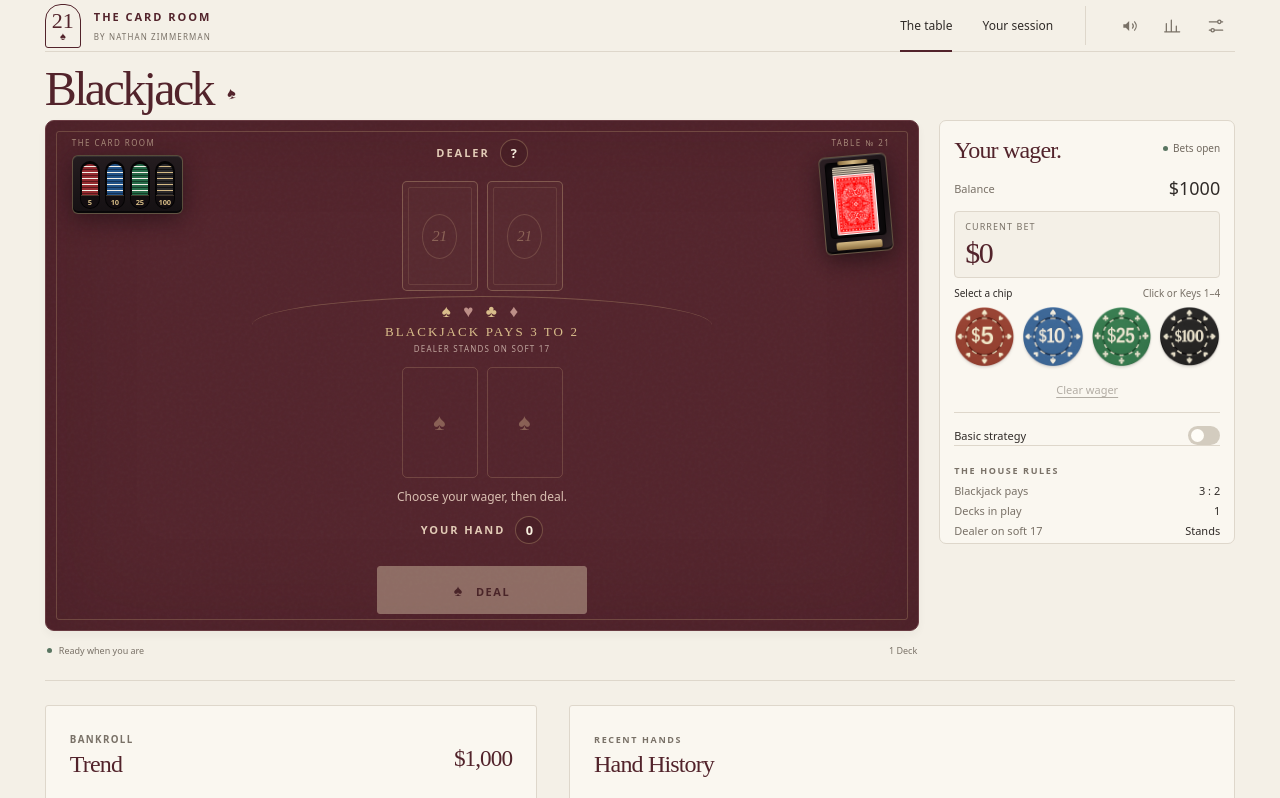
Test case: BlackjackGame › clears the current wager before dealing
The image size is (1280, 798).
Click the button named "Add $25 to wager" at (1121, 336), box [1091,306,1152,367]
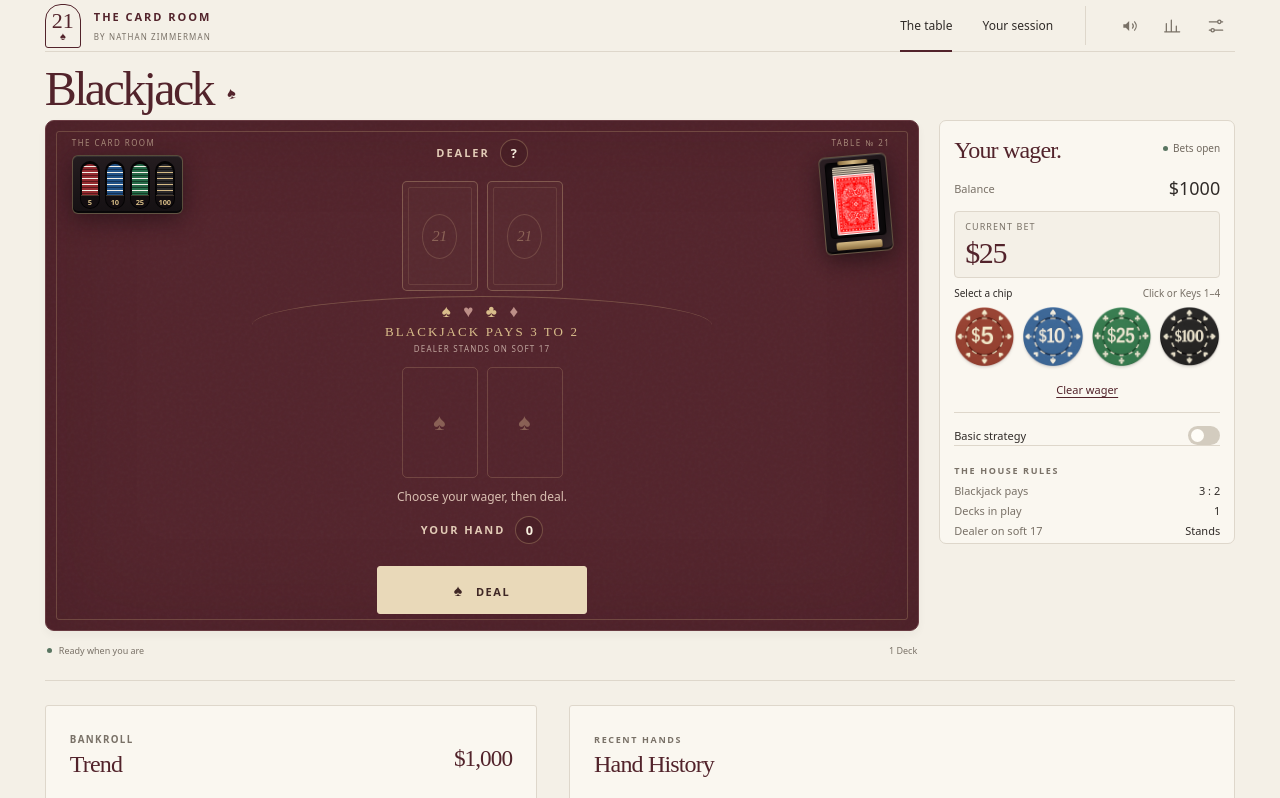
Click the button "Clear wager" at (1087, 390), box [954,374,1220,406]
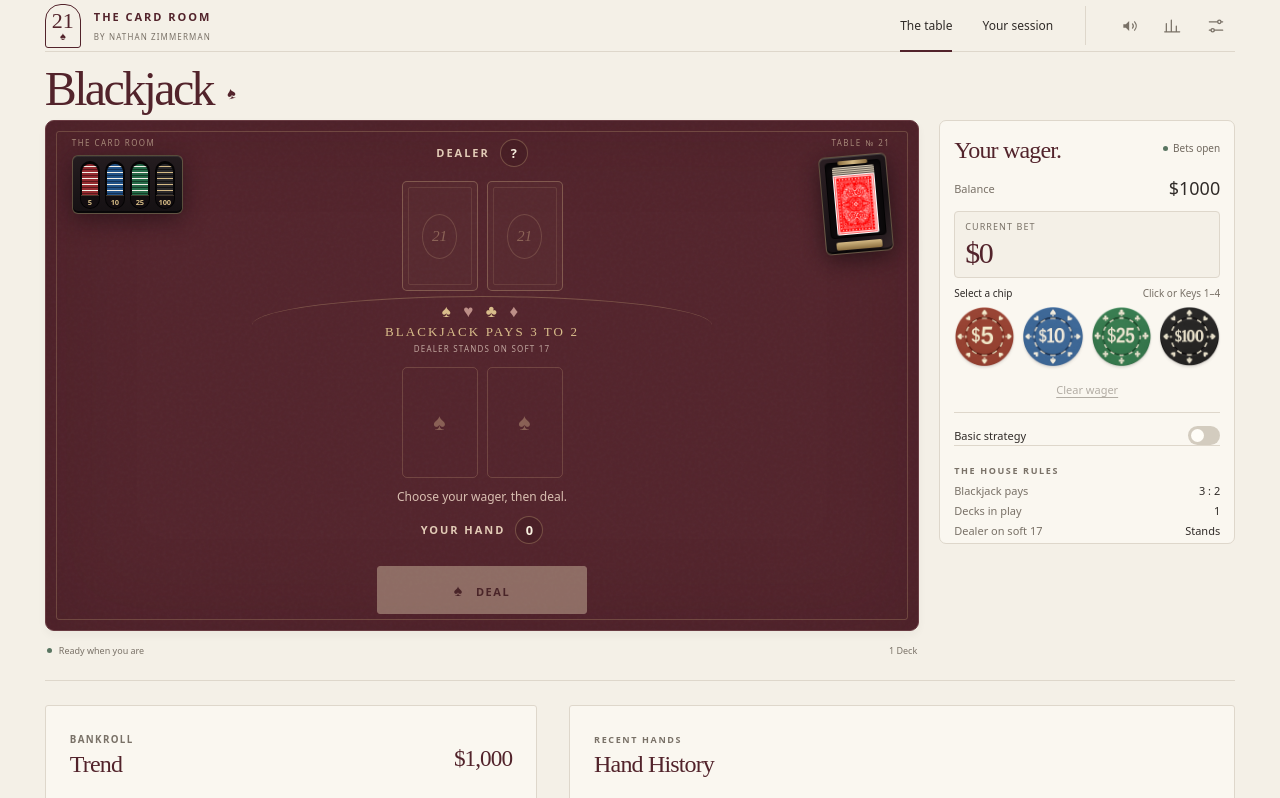
expect the text "$0" is shown: met, box [965,237,992,269]
